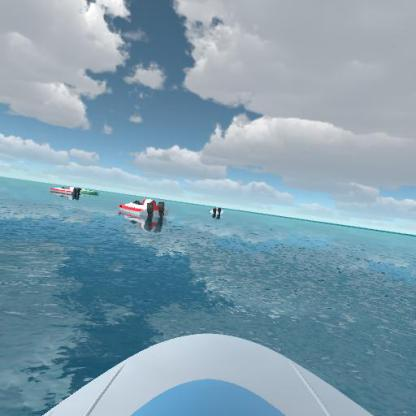usv0: (80, 184, 101, 198)
usv1: (205, 200, 226, 221)
usv3: (114, 192, 171, 228), (48, 181, 82, 201)
